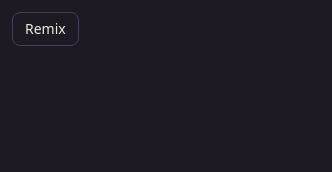
Test: RemixButton › shows the API's error message when it fails
Click the button "Remix".
click(45, 29)  # box [12,12,79,46]
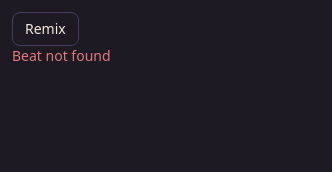
Expected: the message reads "Beat not found", [12,46,111,65]
